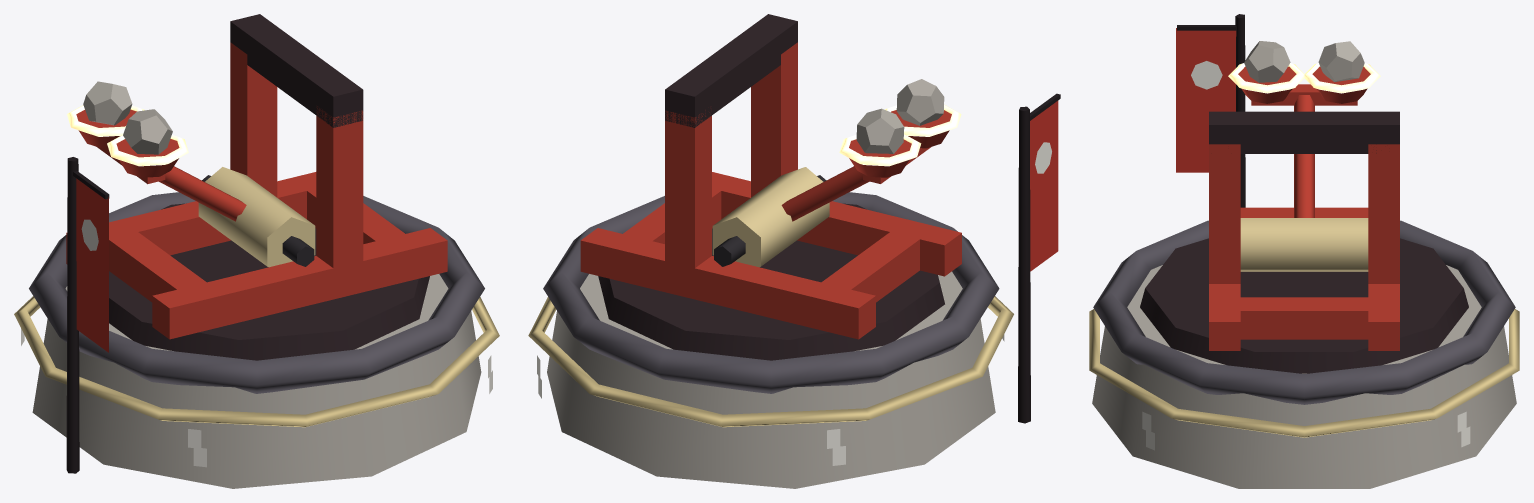
File: tower_catapult_barrage.glb
3 renders of one model, left to right at view 1: azimuth 30°, elevation 25°; view 2: azimuth 150°, elevation 25°; view 3: azimuth 270°, elevation 25°, orthographic. The views are drawn at different scales.
Visible parts, largest first — view 1: base, base_rim, turntable, rail_l, deco_shimenawa_rope, upright_l, stop_bar, torsion_rope, upright_r, deco_nobori_cloth, rail_r, cross_w (+11 smaller); view 2: base, base_rim, turntable, rail_r, deco_shimenawa_rope, stop_bar, upright_r, rail_l, torsion_rope, upright_l, cross_w, deco_nobori_cloth (+10 smaller); view 3: base, turntable, base_rim, stop_bar, torsion_rope, deco_shimenawa_rope, deco_nobori_cloth, cross_e, upright_l, upright_r, rail_l, rail_r (+11 smaller).
Part boxes in pixels (x1,y1,x2,y2): base: [32, 274, 481, 488]; base_rim: [29, 192, 484, 393]; turntable: [109, 203, 429, 360]; rail_l: [152, 228, 447, 339]; deco_shimenawa_rope: [14, 296, 499, 427]; upright_l: [316, 106, 363, 268]; stop_bar: [230, 14, 363, 127]; torsion_rope: [198, 167, 315, 267]; upright_r: [230, 42, 277, 197]; deco_nobori_cloth: [76, 178, 108, 352]; rail_r: [66, 172, 316, 264]; cross_w: [109, 219, 224, 331]; base: [547, 271, 995, 488]; base_rim: [543, 192, 999, 393]; turntable: [598, 203, 944, 360]; rail_r: [580, 228, 875, 339]; deco_shimenawa_rope: [528, 296, 1013, 427]; stop_bar: [665, 14, 797, 127]; upright_r: [665, 110, 711, 268]; rail_l: [712, 172, 961, 276]; torsion_rope: [712, 167, 829, 267]; upright_l: [751, 42, 797, 197]; cross_w: [804, 219, 919, 332]; deco_nobori_cloth: [1030, 101, 1058, 271]; base: [1092, 265, 1516, 488]; turntable: [1140, 238, 1468, 373]; base_rim: [1093, 220, 1515, 404]; stop_bar: [1209, 111, 1399, 153]; torsion_rope: [1240, 218, 1368, 271]; deco_shimenawa_rope: [1089, 309, 1519, 437]; deco_nobori_cloth: [1176, 28, 1236, 172]; cross_e: [1240, 297, 1368, 339]; upright_l: [1209, 144, 1240, 283]; upright_r: [1368, 144, 1399, 283]; rail_l: [1209, 284, 1240, 350]; rail_r: [1368, 284, 1399, 350].
Bounding box in the file's own units: 0.4387 × 0.315 × 0.4052.
